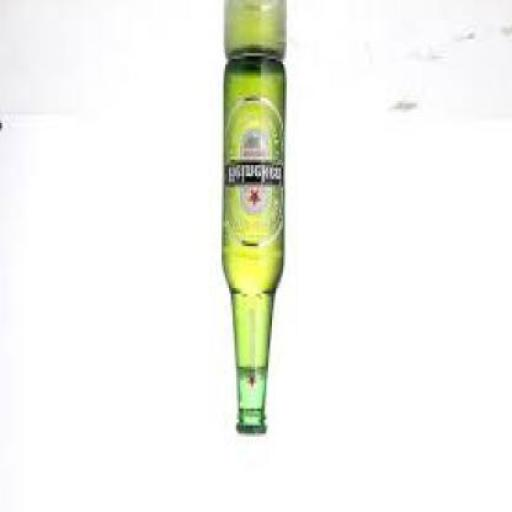glass: (220, 56, 285, 434)
metal: (235, 428, 262, 436)
